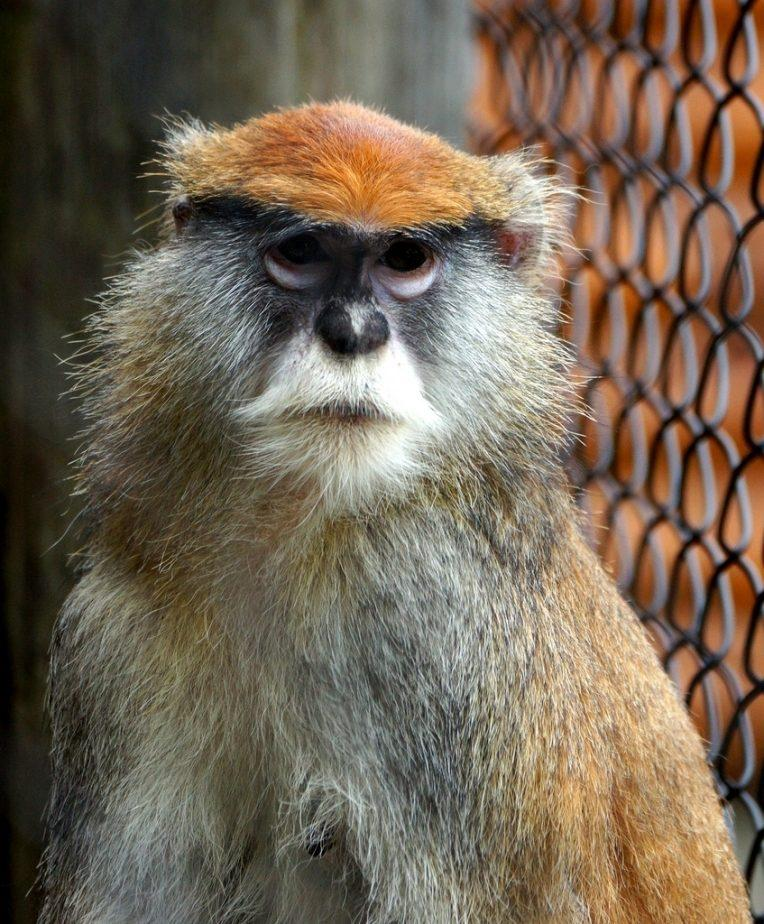monkey: (32, 100, 754, 924)
